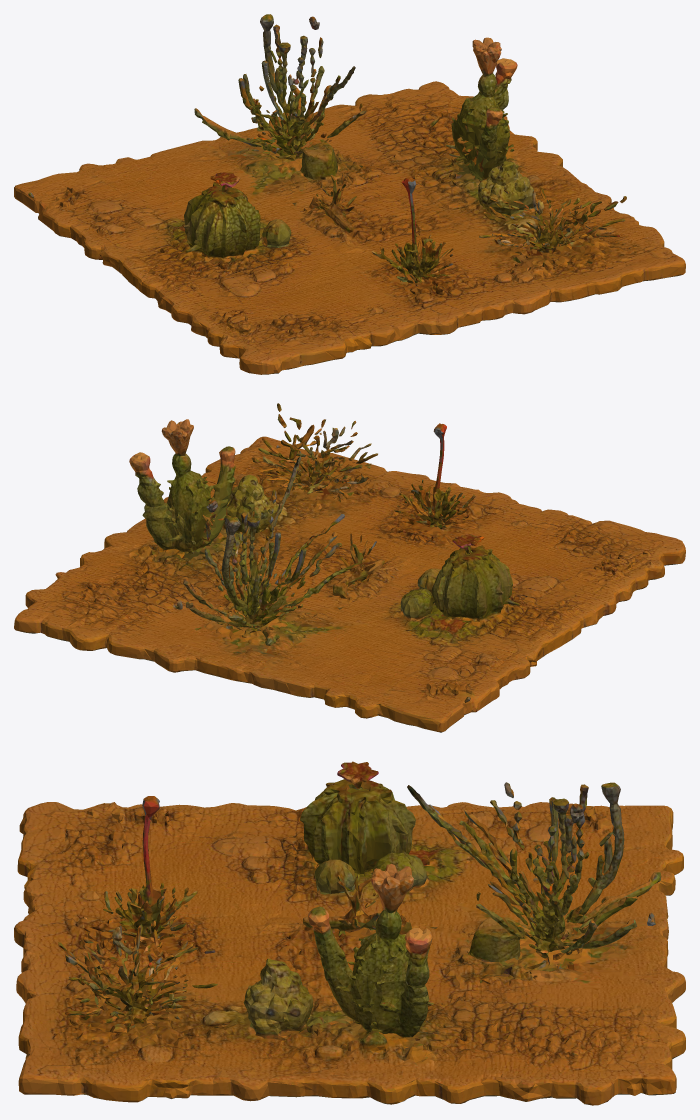
Rendered from desert-ground-6.glb.
The picture shows the model from 3 angles, top to bottom: view 1: azimuth 30°, elevation 25°; view 2: azimuth 150°, elevation 25°; view 3: azimuth 270°, elevation 25°; orthographic projection. The views are drawn at different scales.
Visible parts, largest first — view 1: textured_mesh.obj; view 2: textured_mesh.obj; view 3: textured_mesh.obj.
Part boxes in pixels (x1,y1,x2,y2): textured_mesh.obj: [14, 14, 685, 374]; textured_mesh.obj: [14, 403, 685, 732]; textured_mesh.obj: [14, 761, 685, 1105].
Bounding box in the file's own units: 1.99 × 0.6162 × 1.96.
1 material, 1 textured.
